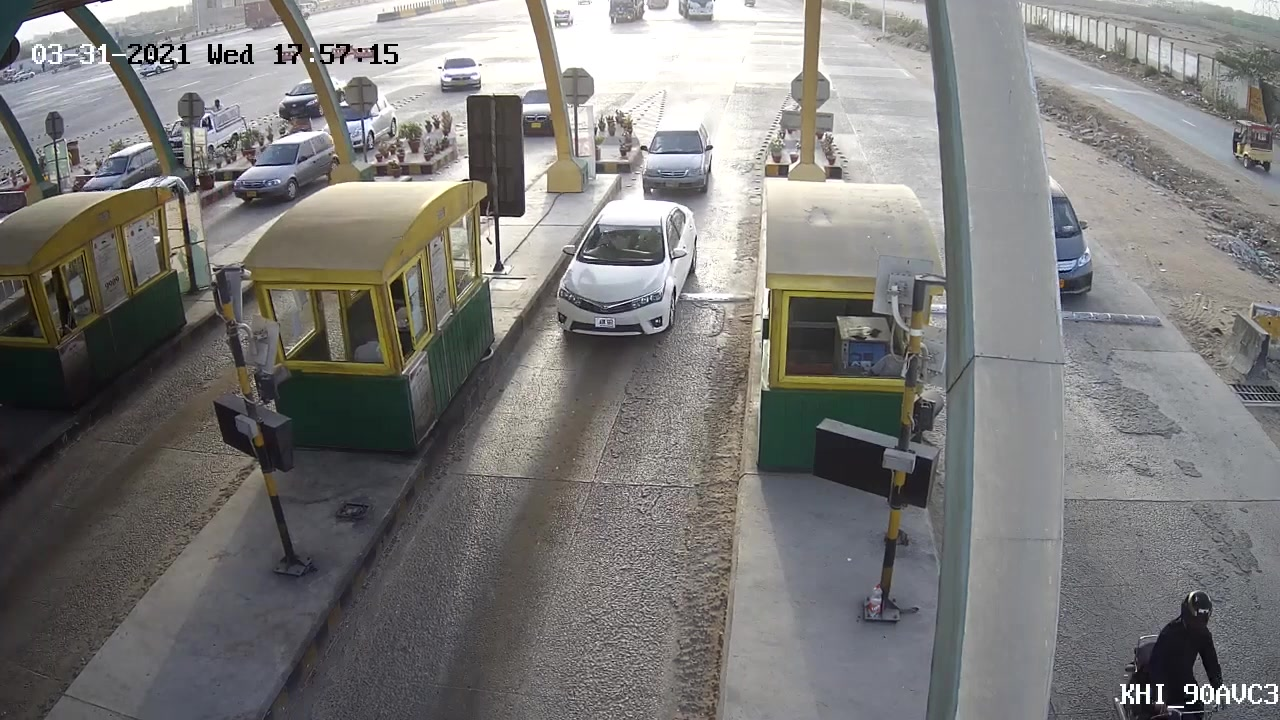F1: (549, 192, 699, 343), (636, 113, 723, 195)
